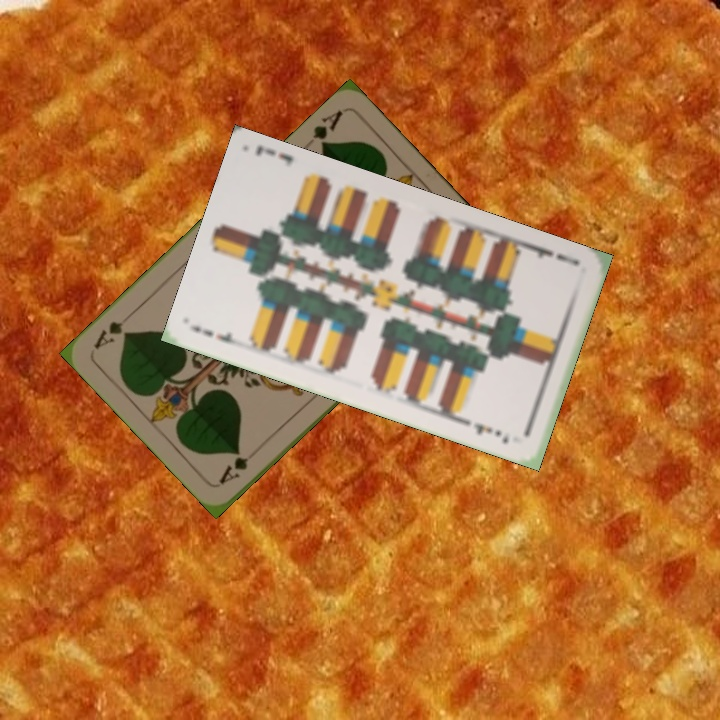E7: (525, 240, 583, 269), (190, 322, 247, 351)
GA: (299, 106, 346, 153), (215, 452, 251, 487)
